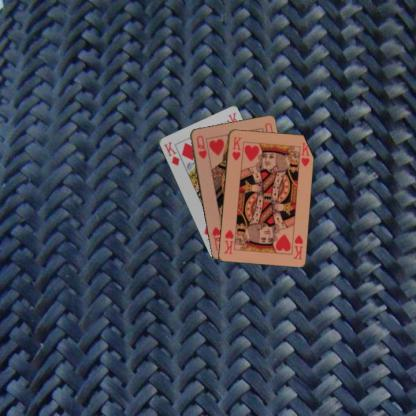Kd: (161, 139, 181, 167)
Kh: (229, 134, 243, 162), (291, 231, 304, 260)
Qh: (194, 133, 208, 160)
